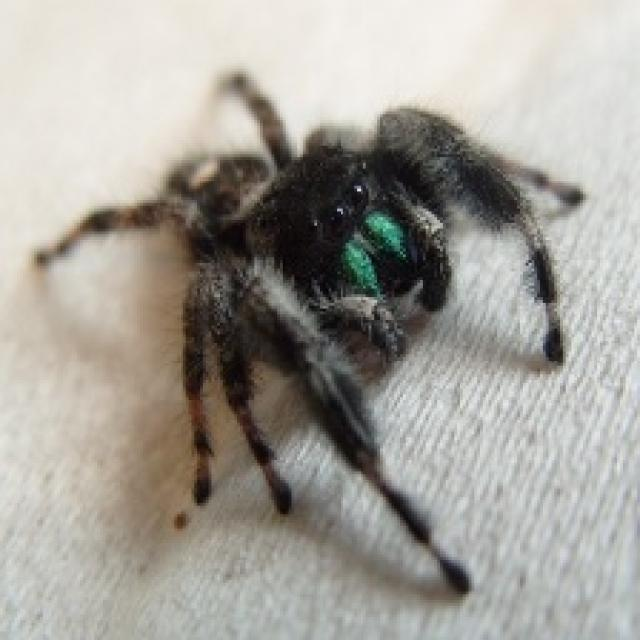Non venomous spider: (35, 60, 600, 614)
